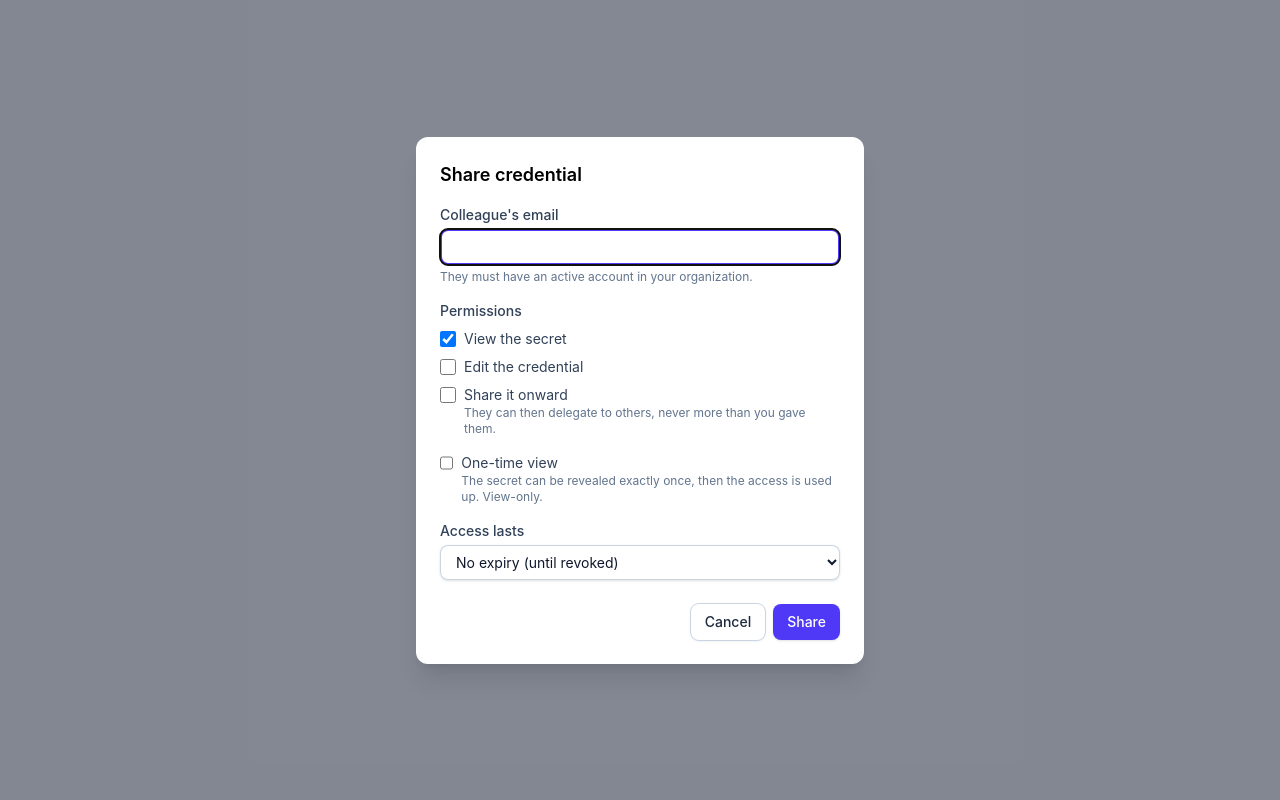
Scenario: ShareDialog › one-time view forces view-only and locks the other permissions
This screenshot has width=1280, height=800.
Click the checkbox labelled "Edit the credential". click: click(448, 366)
box: [440, 358, 456, 374]
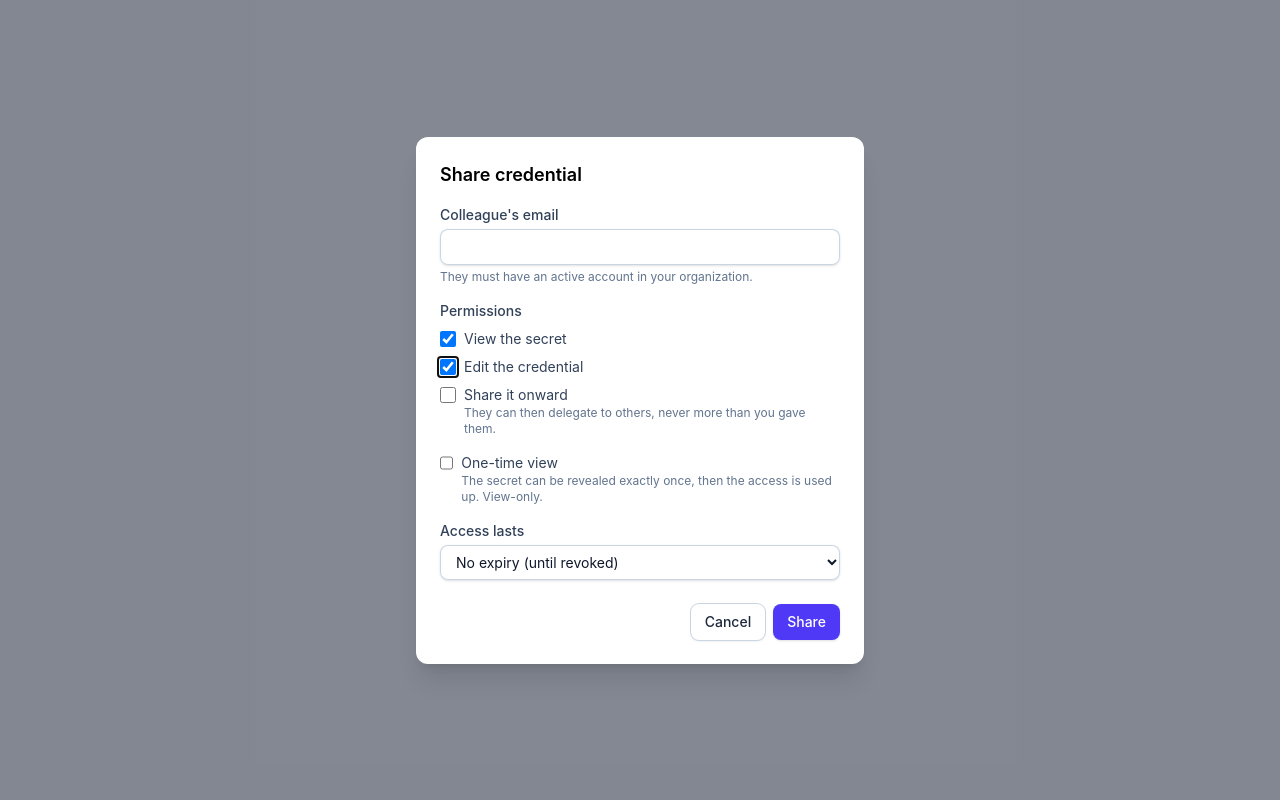
Click the checkbox labelled "Share it onward". click: click(448, 394)
box: [440, 386, 456, 402]
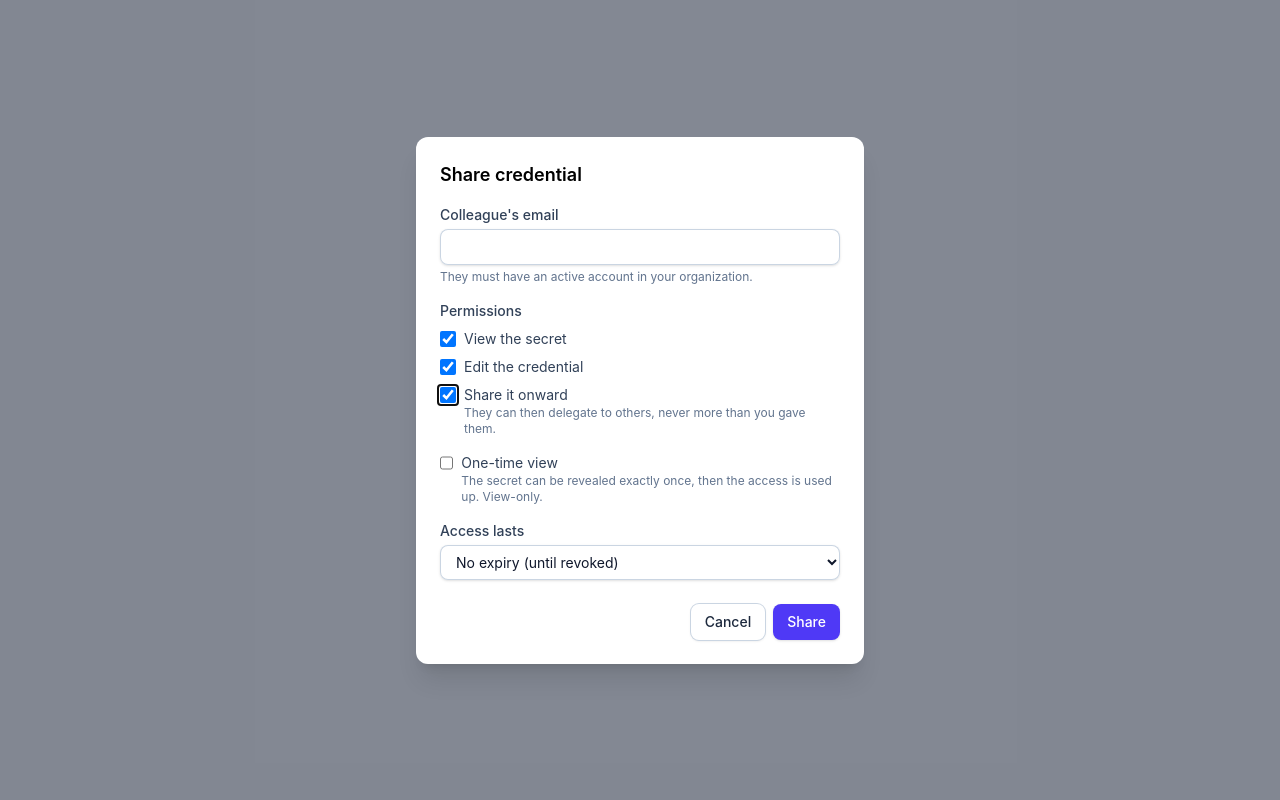
Click the checkbox labelled "One-time view". click: click(447, 462)
box: [440, 454, 453, 470]
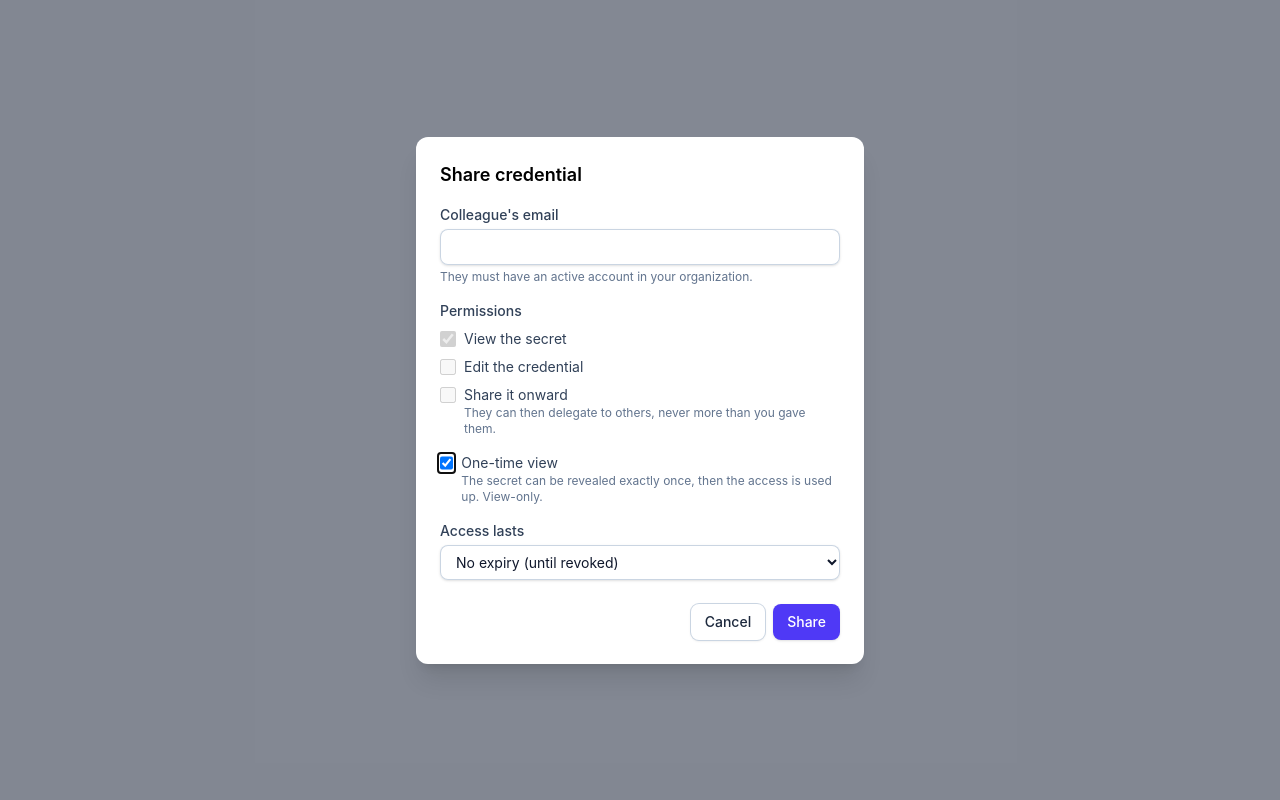
expect the checkbox labelled "Edit the credential" is not checked: met, box [440, 358, 456, 374]
expect the checkbox labelled "Edit the credential" is disabled: met, box [440, 358, 456, 374]
expect the checkbox labelled "Share it onward" is disabled: met, box [440, 386, 456, 402]
